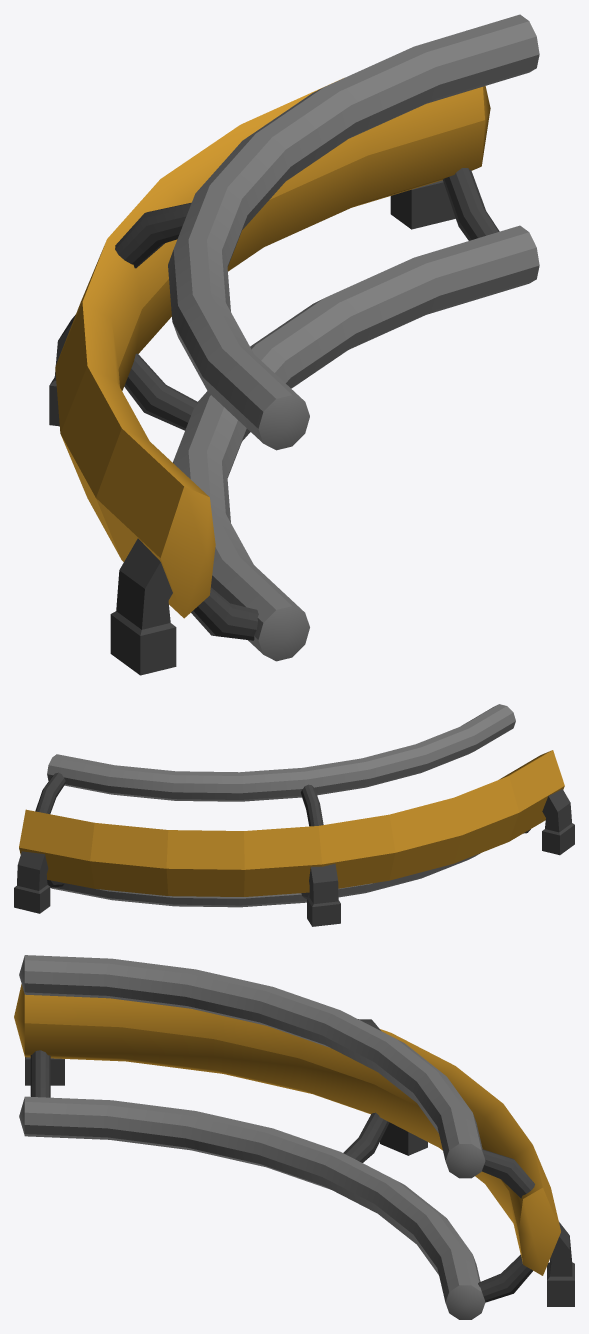
File: Rails.fbx
3 views of the same model, one above another, from view 1: azimuth 30°, elevation 25°; view 2: azimuth 150°, elevation 25°; view 3: azimuth 270°, elevation 25° (orthographic). The views are drawn at different scales.
Visible parts, largest first — view 1: pTorus3, pTorus1, pTorus2, pCube1, pCylinder9, pCylinder4, pCube2, pCylinder8, pCylinder10; view 2: pTorus3, pTorus1, pTorus2, pCube2, pCube3, pCube1, pCylinder2, pCylinder4; view 3: pTorus3, pTorus1, pTorus2, pCube2, pCylinder2, pCylinder8, pCylinder9, pCylinder10, pCube3, pCube1.
Boxes of the visible parts, bbox=[...] form: pTorus3: bbox=[55, 78, 490, 618]; pTorus1: bbox=[168, 14, 539, 450]; pTorus2: bbox=[172, 225, 539, 661]; pCube1: bbox=[110, 538, 176, 675]; pCylinder9: bbox=[124, 353, 197, 430]; pCylinder4: bbox=[115, 202, 191, 268]; pCube2: bbox=[390, 180, 455, 229]; pCylinder8: bbox=[442, 168, 499, 240]; pCylinder10: bbox=[191, 587, 258, 640]; pTorus3: bbox=[19, 750, 564, 896]; pTorus1: bbox=[47, 704, 515, 801]; pTorus2: bbox=[51, 853, 480, 907]; pCube2: bbox=[14, 851, 50, 913]; pCube3: bbox=[307, 863, 340, 926]; pCube1: bbox=[542, 789, 574, 855]; pCylinder2: bbox=[35, 772, 65, 813]; pCylinder4: bbox=[301, 784, 323, 826]; pTorus3: bbox=[14, 984, 560, 1275]; pTorus1: bbox=[19, 955, 485, 1178]; pTorus2: bbox=[19, 1096, 485, 1319]; pCube2: bbox=[547, 1222, 574, 1306]; pCylinder2: bbox=[482, 1149, 534, 1198]; pCylinder8: bbox=[478, 1254, 532, 1302]; pCylinder9: bbox=[343, 1112, 389, 1162]; pCylinder10: bbox=[30, 1050, 50, 1097]; pCube3: bbox=[380, 1122, 427, 1155]; pCube1: bbox=[25, 1057, 64, 1085].
Size of the model in its own units: 1128 by 388 by 1120.
